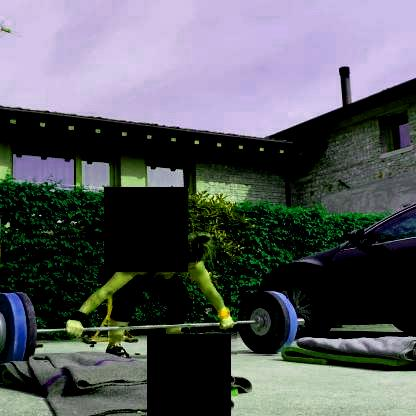barbell: (236, 293, 284, 356)
